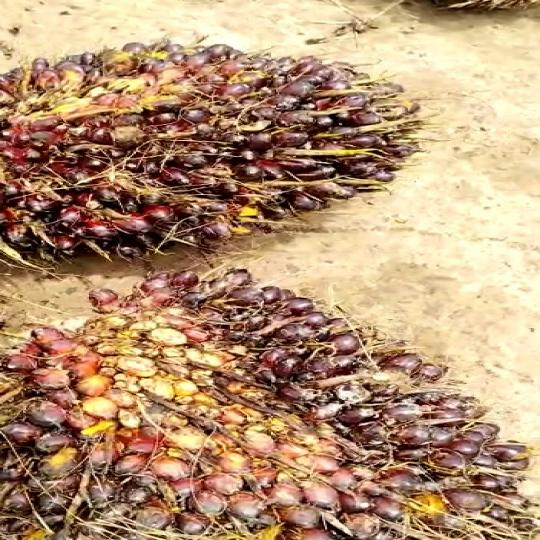kurang masak: (0, 263, 540, 540), (0, 36, 437, 274)
